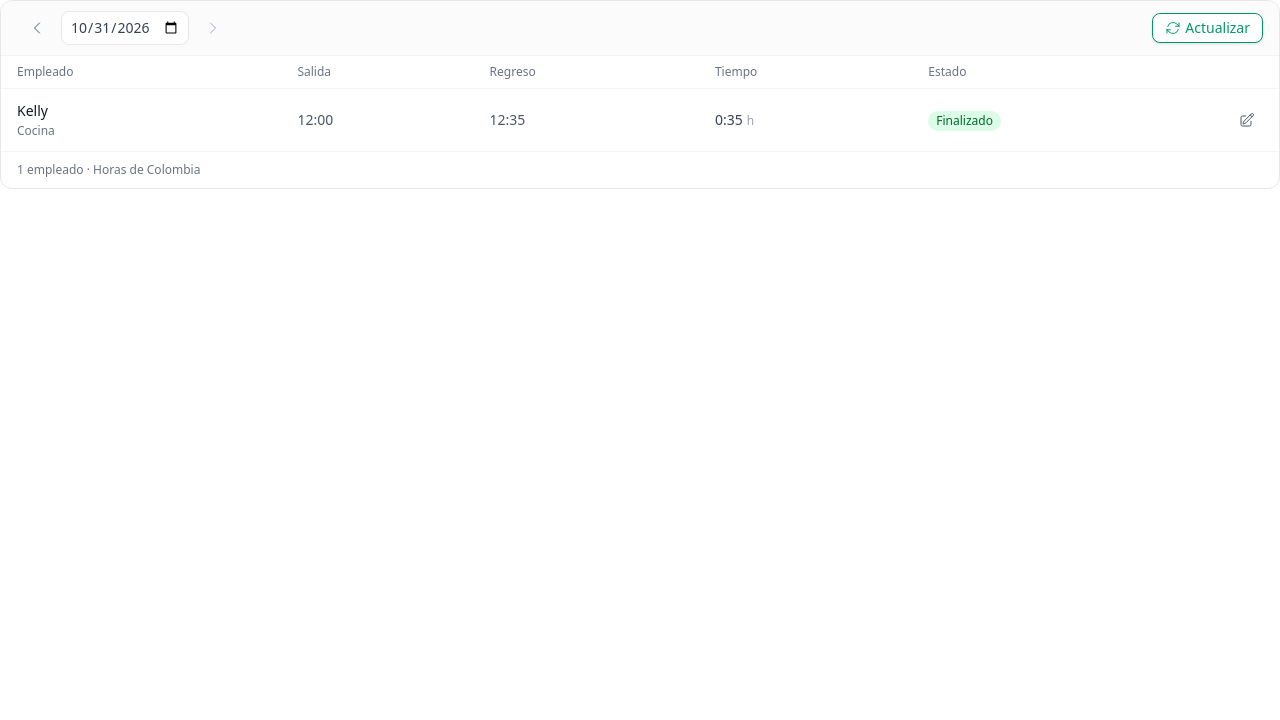
it: historial de almuerzos › permite a isAdmin corregir con motivo y versión del registro
Click the button named "Corregir almuerzo de Kelly" at (1247, 120), box [1227,106,1267,134]
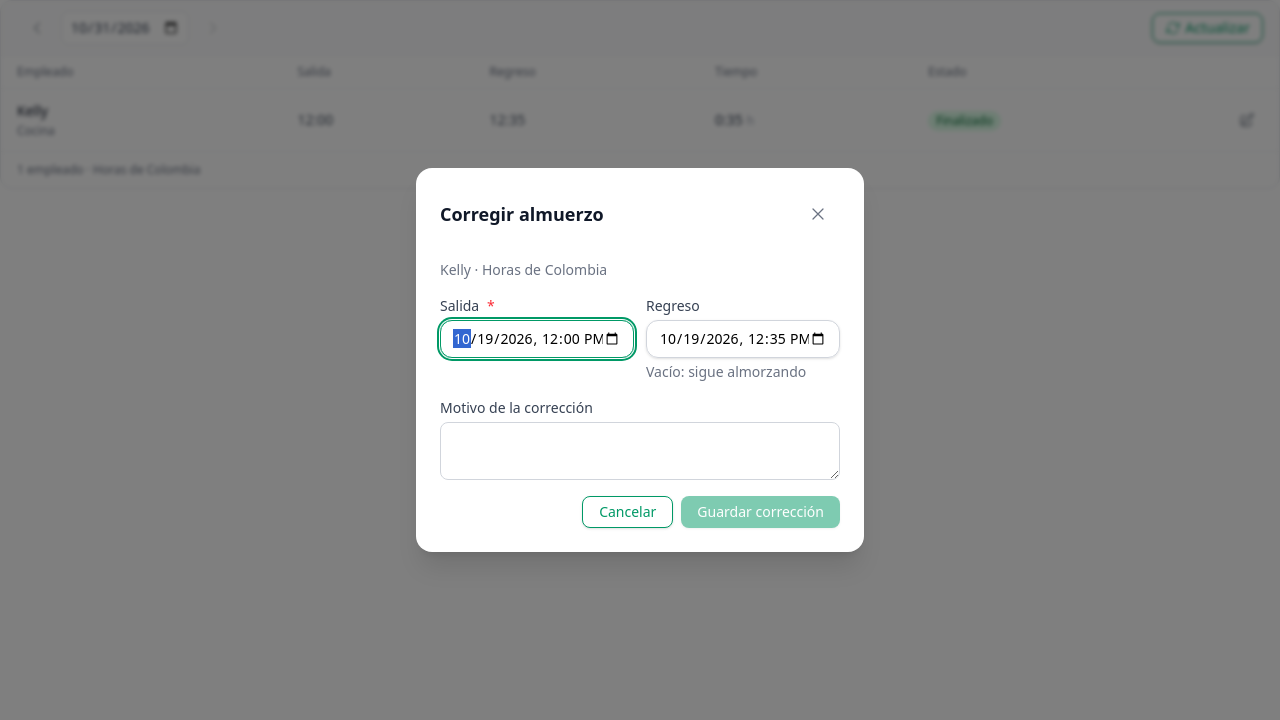
Type " Olvidó registrar regreso " into the text box labelled "Motivo de la corrección" at (640, 451), box [440,422,840,480]
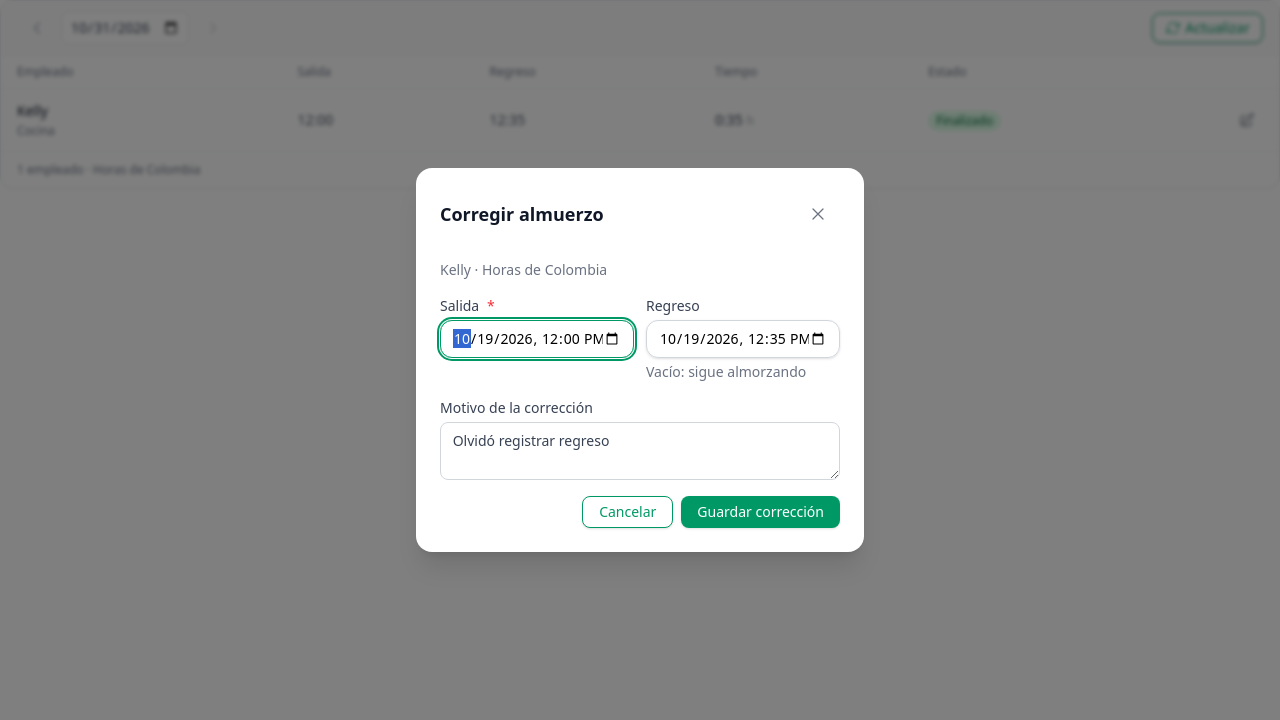
Submit the form, box [440,260,840,528]
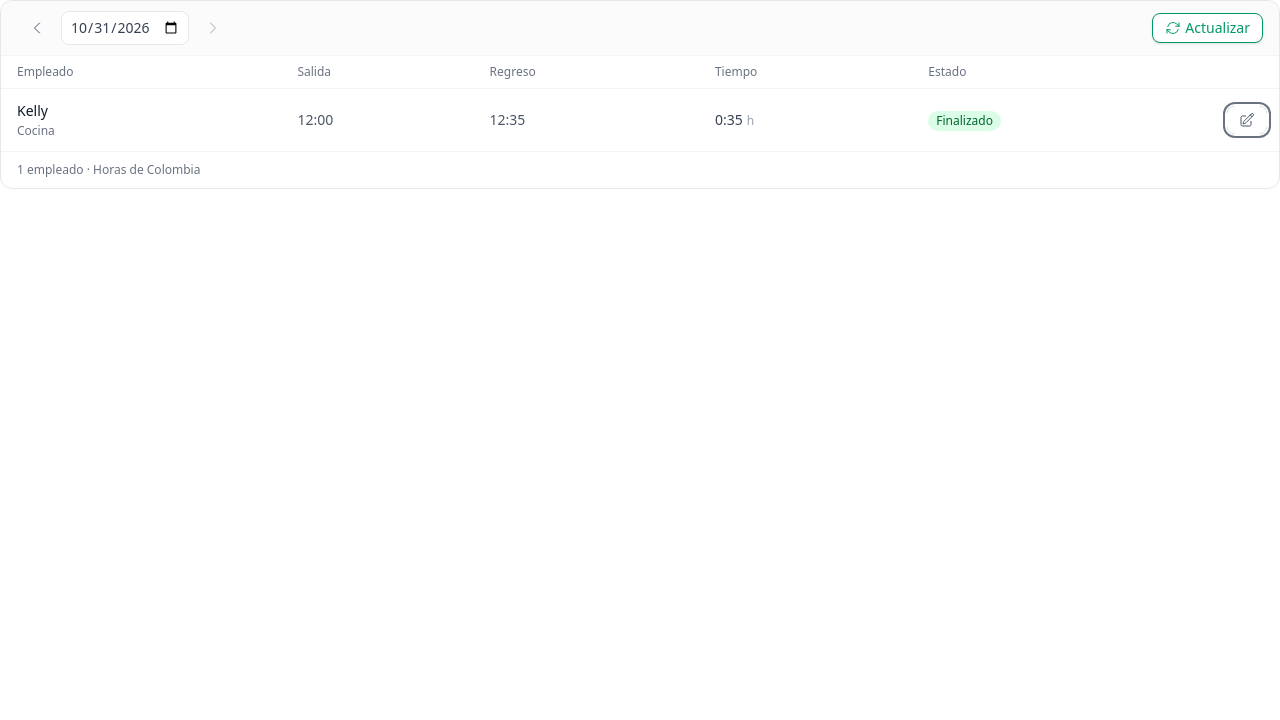
Now the dialog is gone
